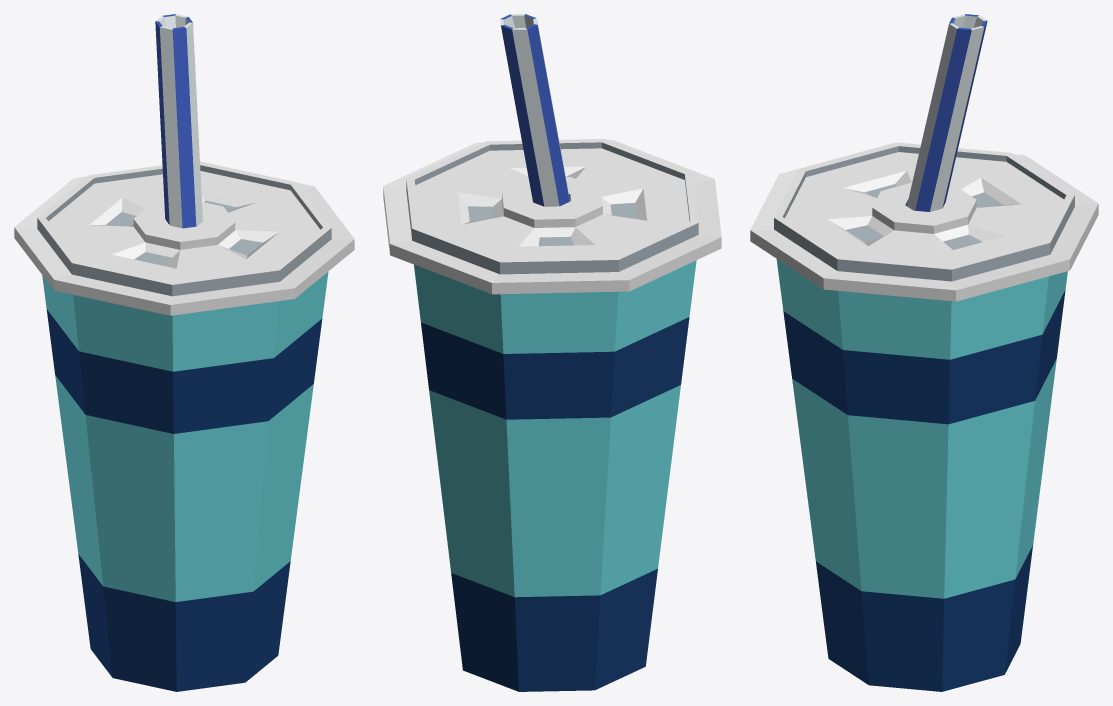
Rendered from Potion.BigSippy.s.fbx.
The picture shows the model from 3 angles, left to right: view 1: azimuth 30°, elevation 25°; view 2: azimuth 150°, elevation 25°; view 3: azimuth 270°, elevation 25°; orthographic projection. The views are drawn at different scales.
Parts seen in each view (by area): view 1: Potion.BigSippy.s; view 2: Potion.BigSippy.s; view 3: Potion.BigSippy.s.
Boxes of the visible parts, bbox=[...] form: Potion.BigSippy.s: bbox=[14, 14, 354, 691]; Potion.BigSippy.s: bbox=[383, 14, 721, 691]; Potion.BigSippy.s: bbox=[750, 14, 1098, 691].
Bounding box in the file's own units: 39.27 × 78.92 × 39.27.
